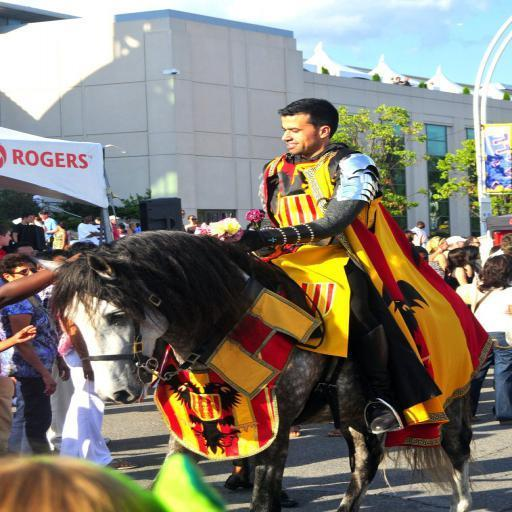horse: (42, 230, 478, 512)
